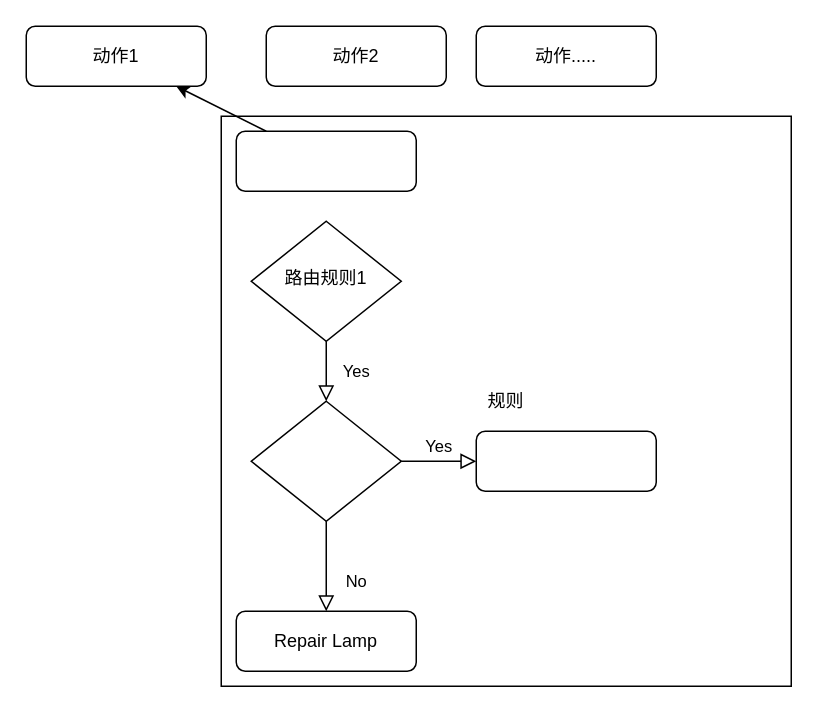
Image size: 818x713. Some labels were removed from this diagram. The shapes that lost their labels are listed below. From the top down, each one's centre as x and y in pixels, then its label:
the point at 325,160: 实体
the point at 325,460: 路由规则2
the point at 565,460: Replace Bulb
